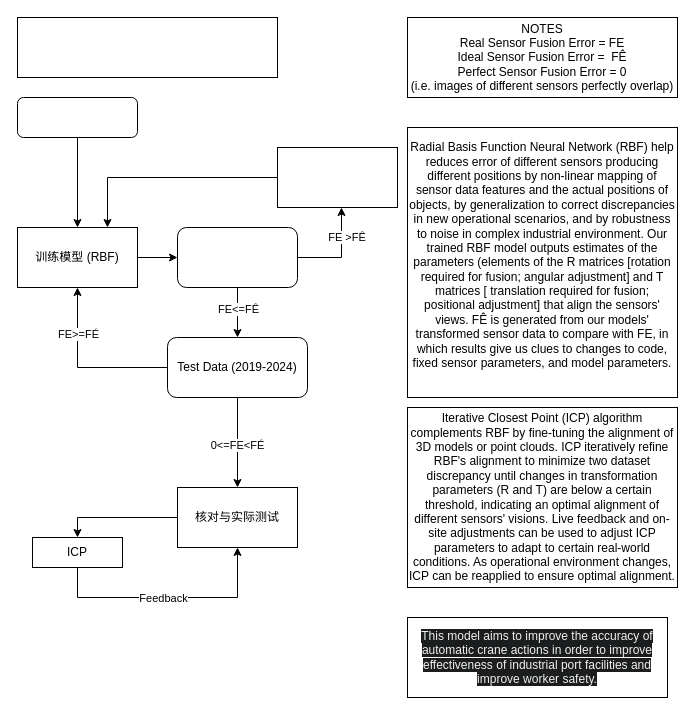
The diagram is 695 pixels wide and 715 high, and some of its shapes have lost their labels. The centre of each missing label's shape, as x and y in pixels:
"Validation Data (2017-2019)" belongs at point 237,257.
"Validation Train Data (2016-2017)" belongs at point 77,117.
"参数，代码，传感器调整" belongs at point 337,177.
"自动化工业吊车传感器校准方案" belongs at point 147,47.
